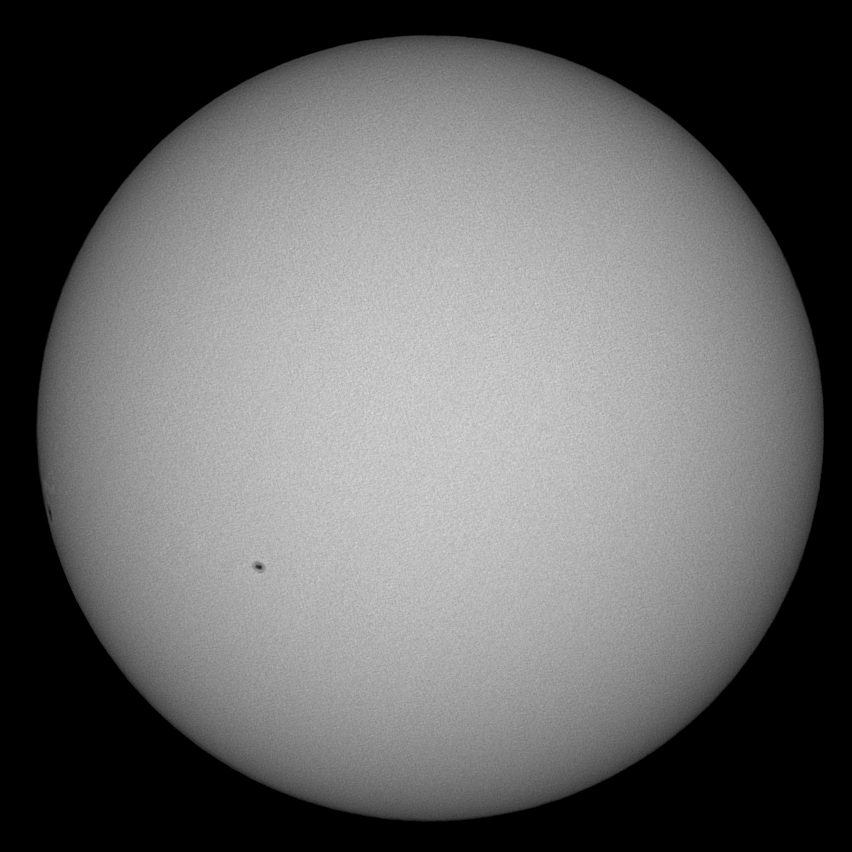sunspot: (248, 556, 269, 575)
